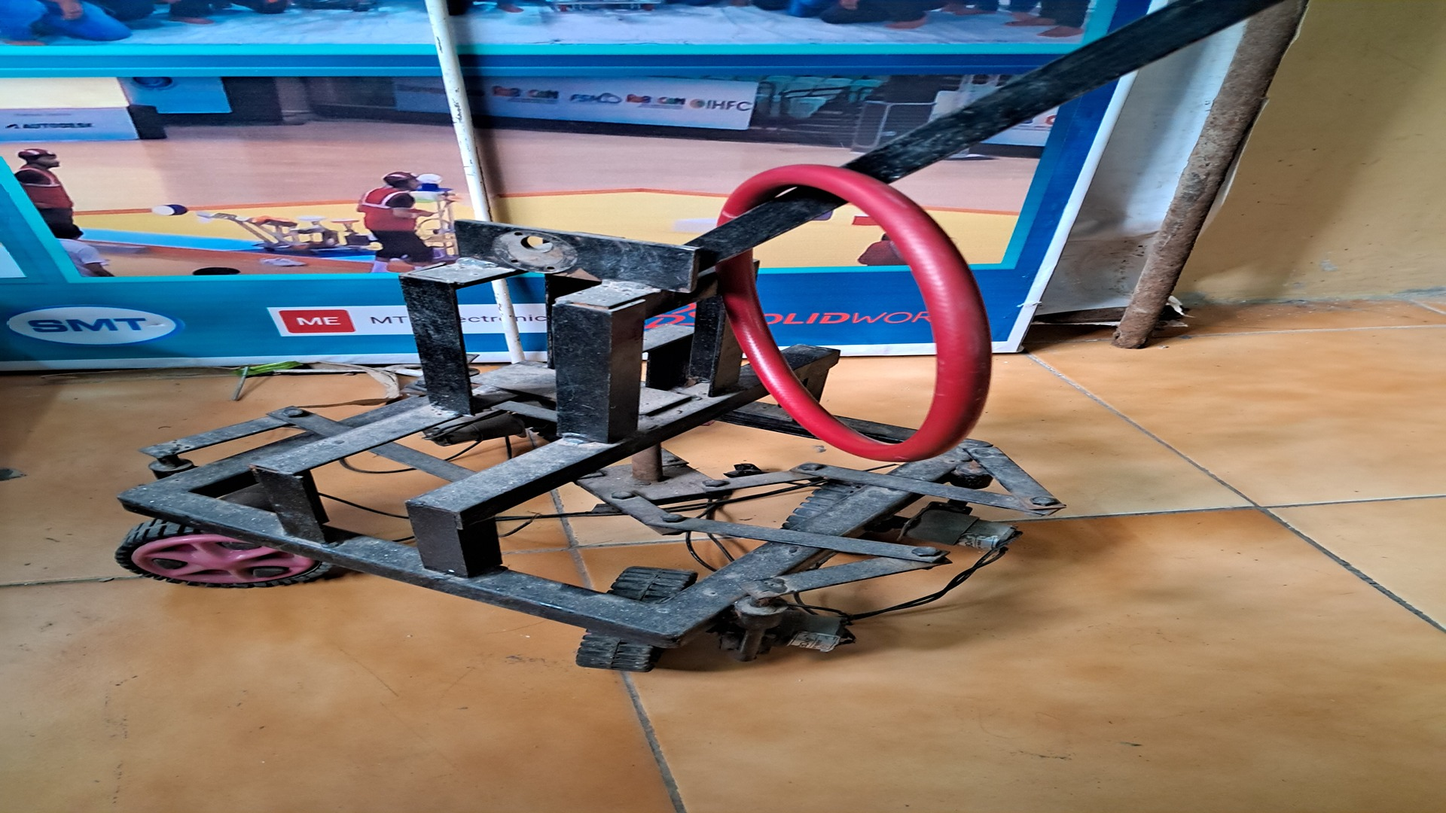Red ring: (724, 164, 993, 465)
